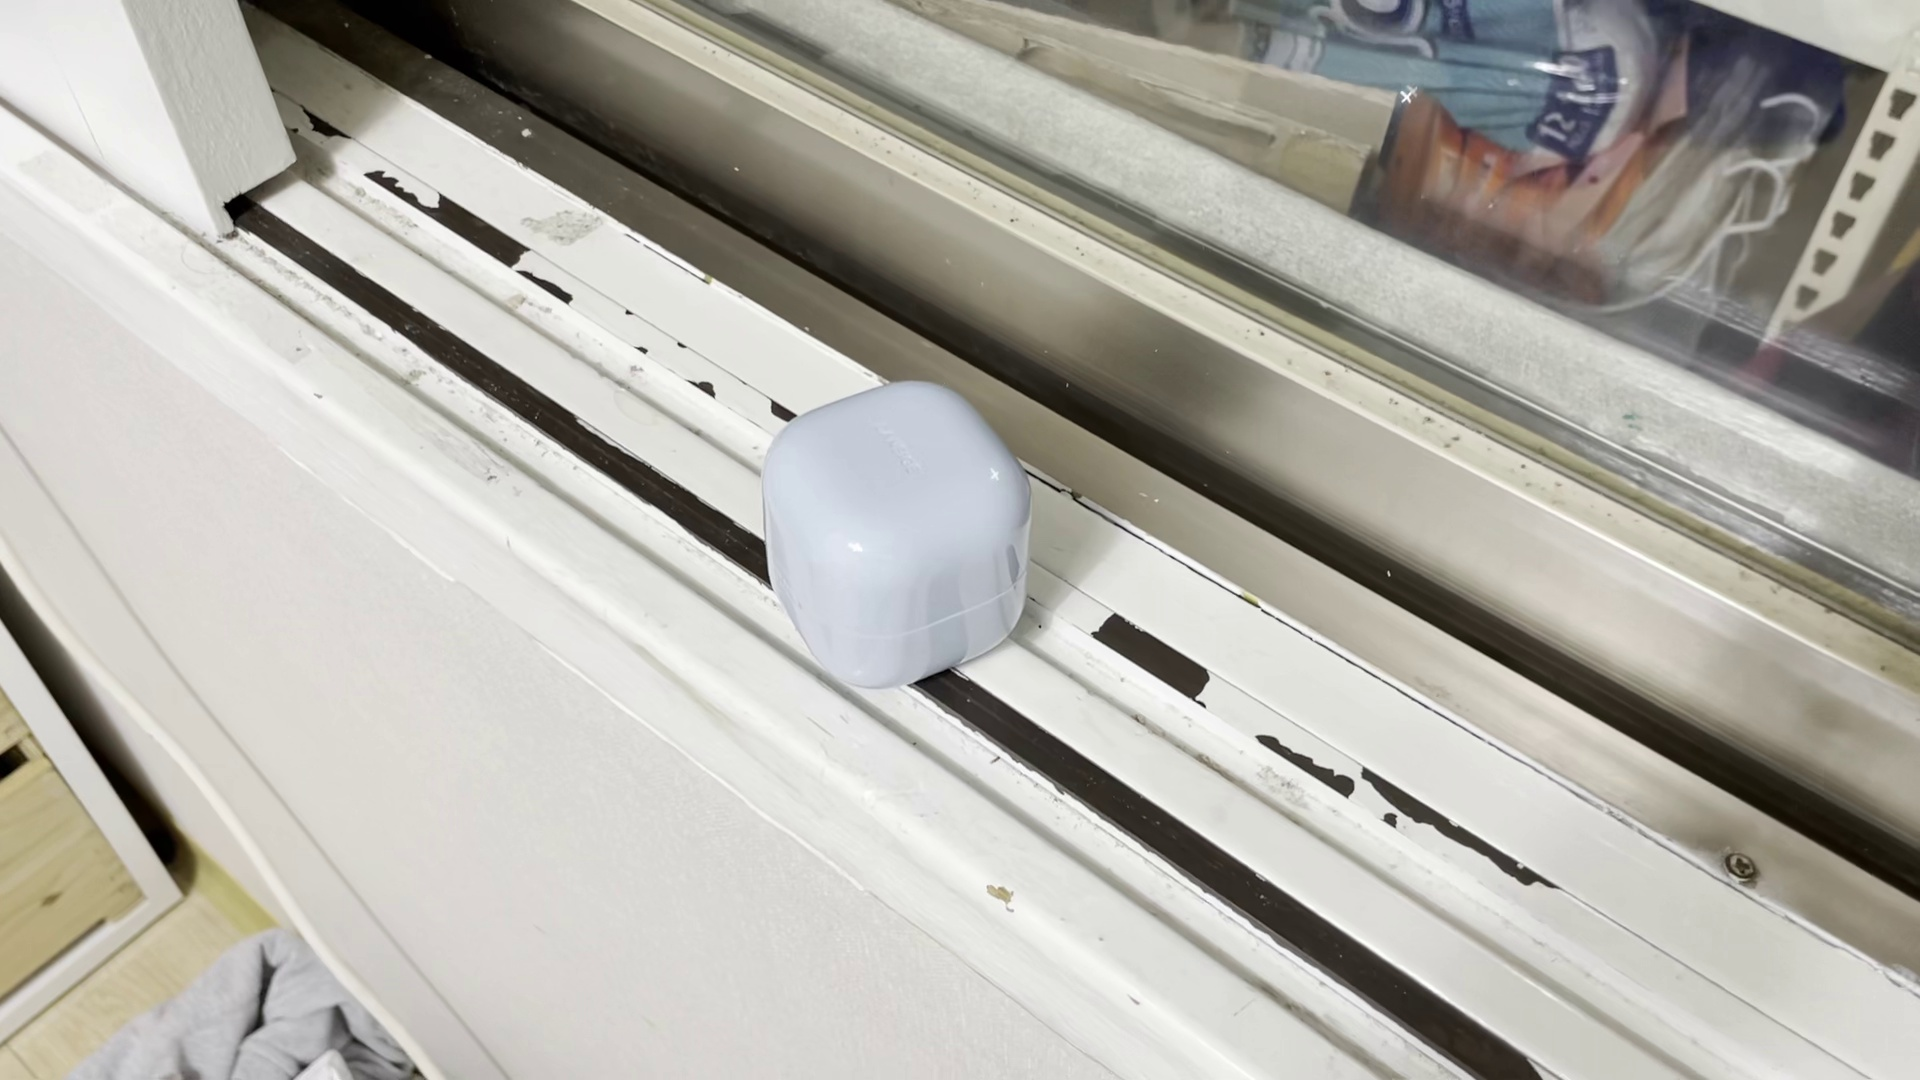cream: (765, 376, 1034, 688)
